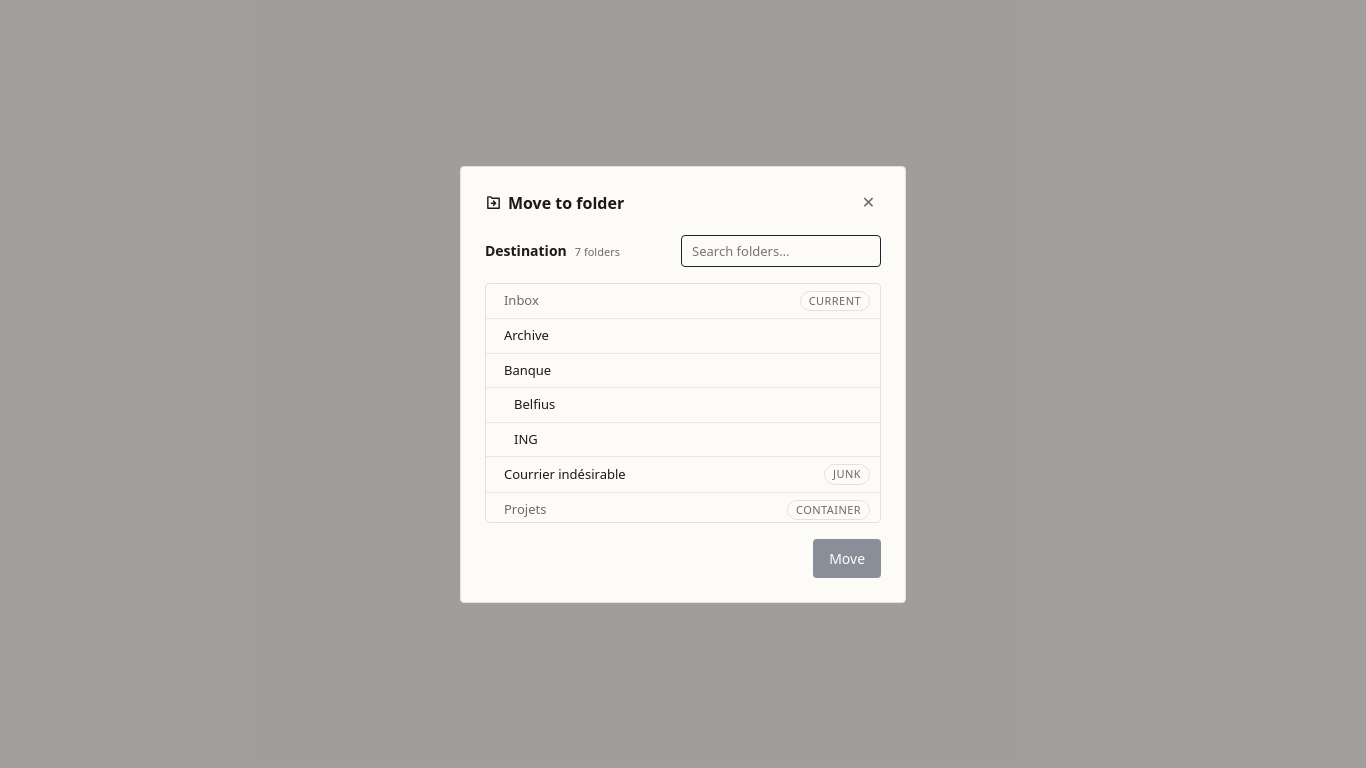
MoveMessagesModal › finds an accented folder from an unaccented query
The image size is (1366, 768).
Type "indesirable" into the search field labelled "Search folders". click: (781, 250)
box: [681,234,881,266]
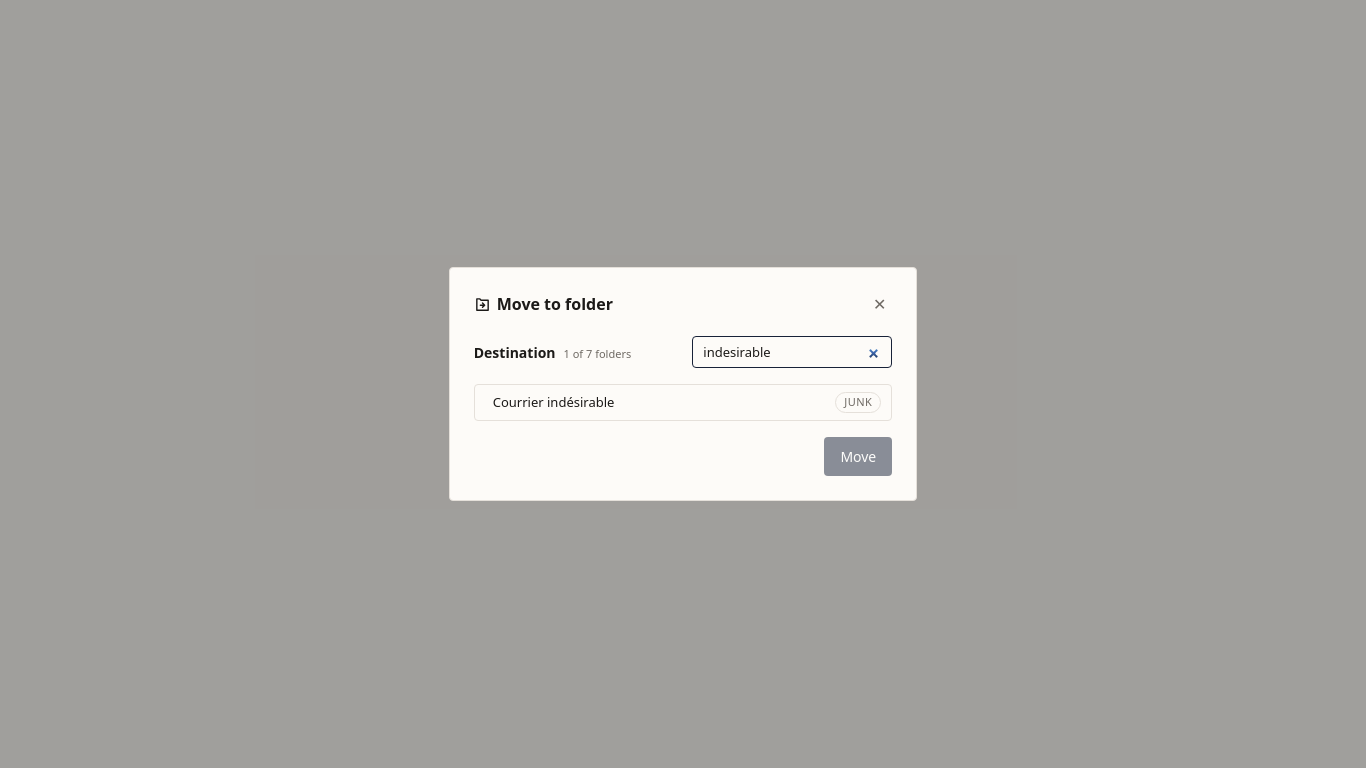
Expected: the button "Courrier indésirable Junk" is shown, [475,385,891,420]
Expected: the text "1 of 7 folders" is shown, [564,346,631,362]
